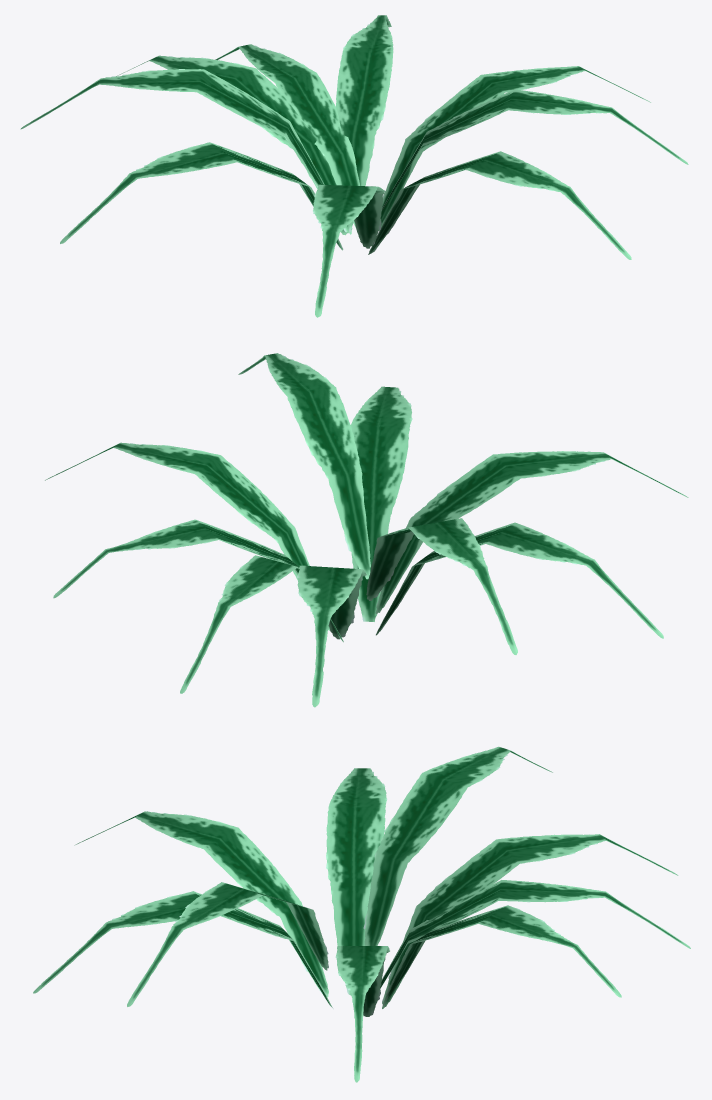
Rendered from Planta 2 textura.fbx.
3 renders of one model, top to bottom at view 1: azimuth 30°, elevation 25°; view 2: azimuth 150°, elevation 25°; view 3: azimuth 270°, elevation 25°, orthographic. The views are drawn at different scales.
Visible parts, largest first — view 1: Planta_2; view 2: Planta_2; view 3: Planta_2.
Part boxes in pixels (bbox=[...]): Planta_2: bbox=[20, 15, 688, 317]; Planta_2: bbox=[45, 353, 688, 707]; Planta_2: bbox=[33, 746, 690, 1082].
Size of the model in its own units: 141 by 39.25 by 136.
Materials: 1 (1 with a texture image).
